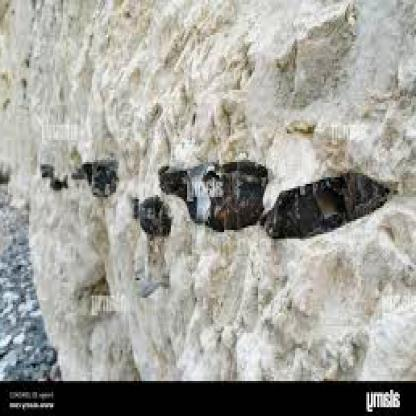Sedimentary_Chalk: (22, 24, 356, 350)
